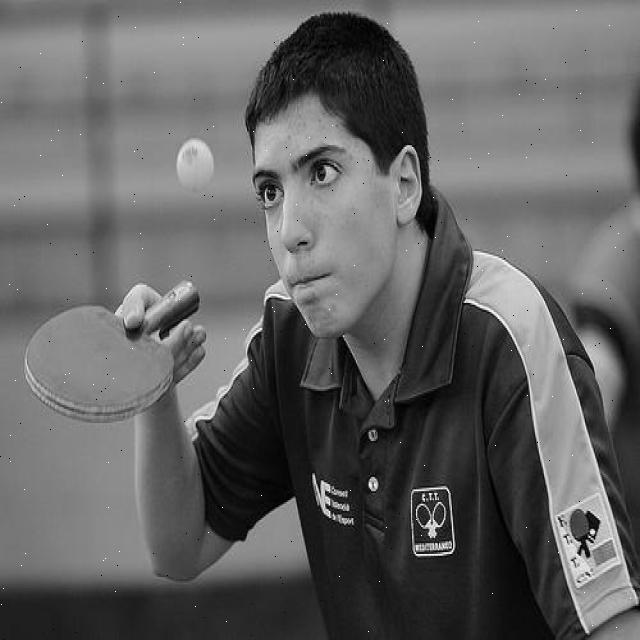ping-pong-ball: (176, 134, 216, 196)
